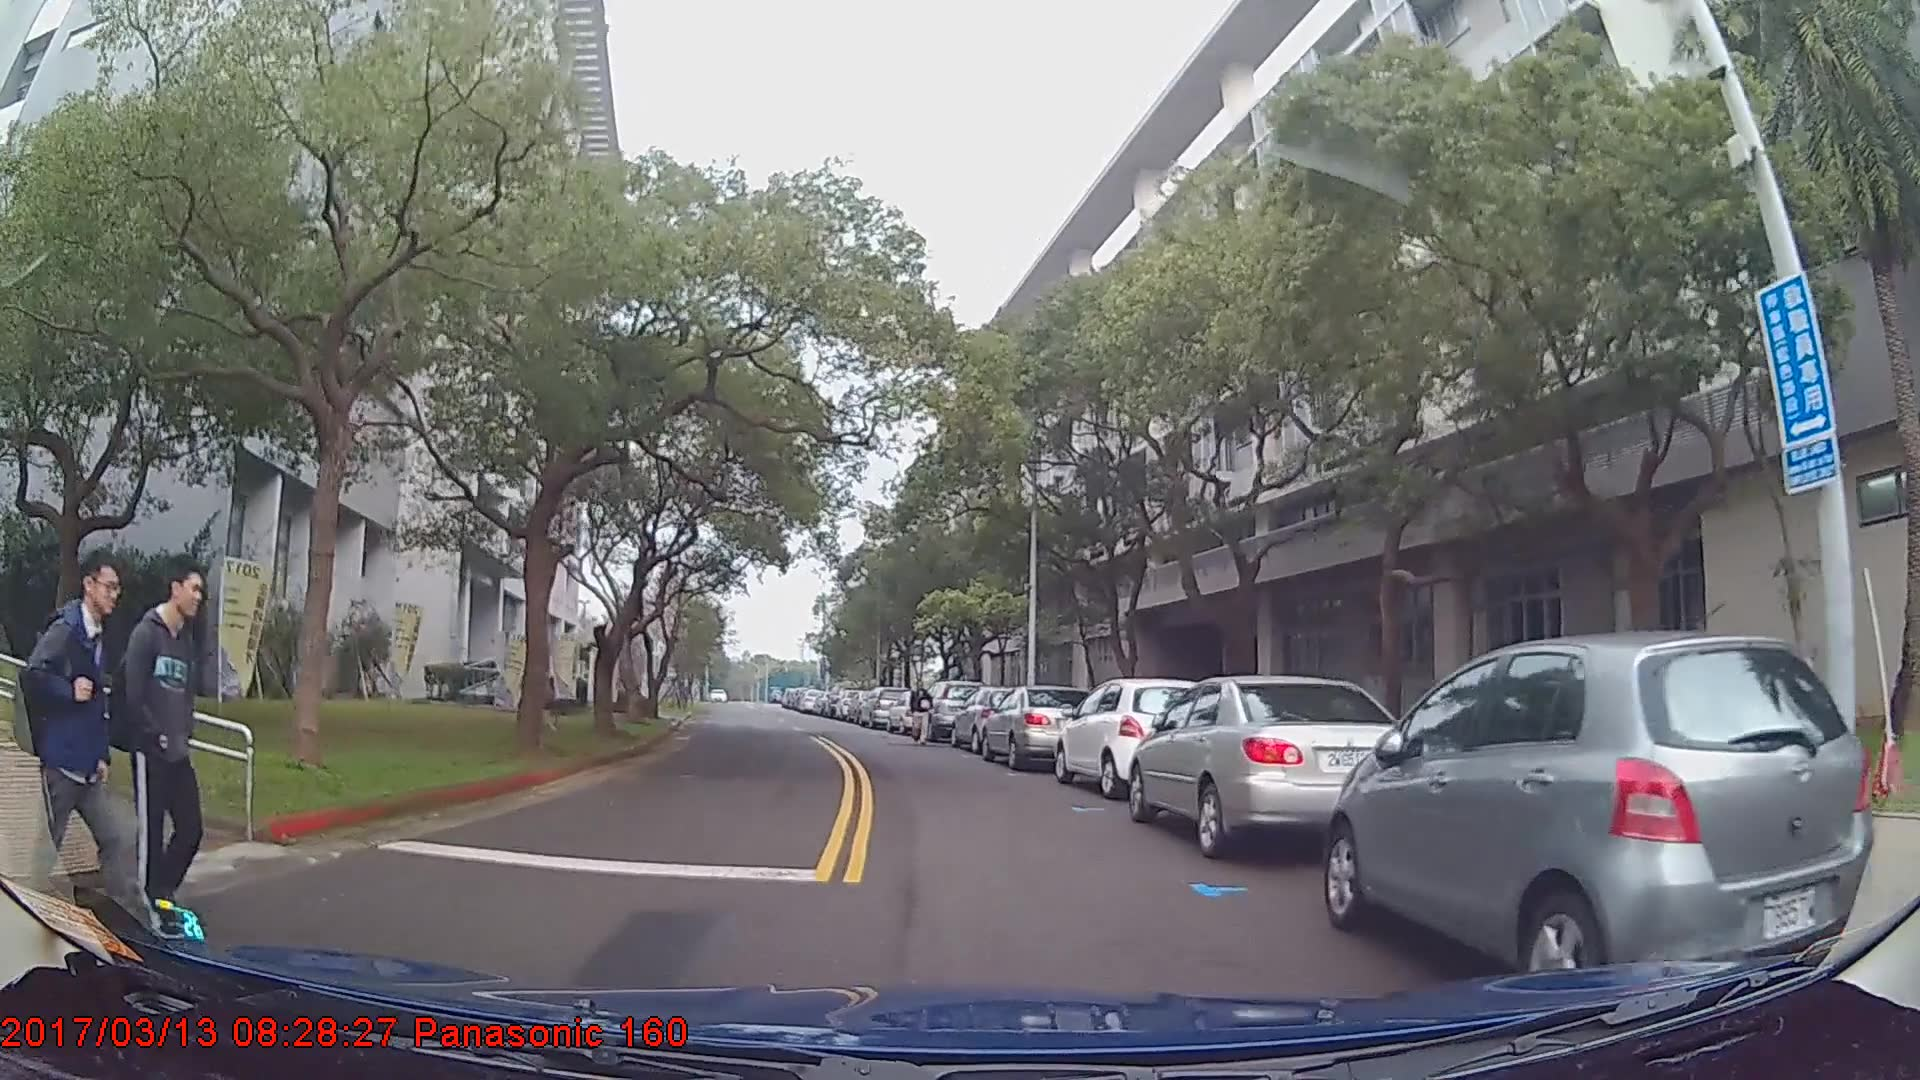pedestrian: (29, 551, 169, 954), (112, 550, 211, 951), (908, 675, 935, 745)
vehicle: (1326, 628, 1874, 1006), (1129, 674, 1424, 859), (1056, 676, 1214, 802), (981, 683, 1091, 769), (947, 685, 1044, 756), (920, 677, 982, 741), (860, 684, 909, 728)
